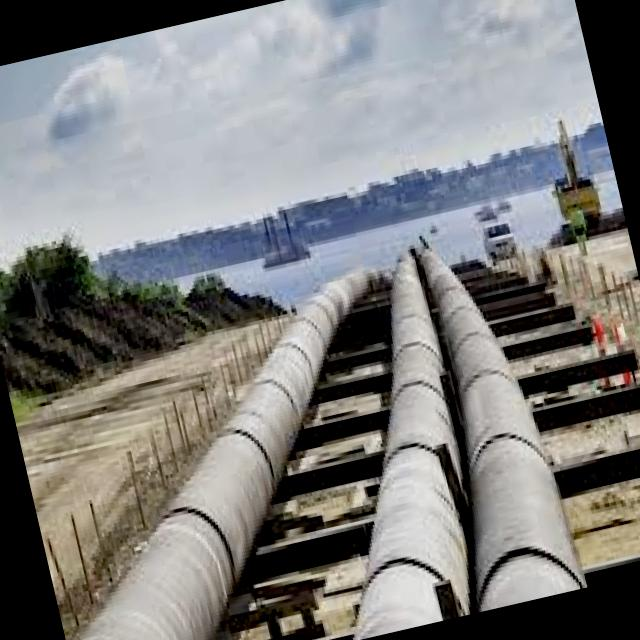gas: (80, 275, 366, 640), (423, 251, 584, 609), (355, 256, 468, 640)
